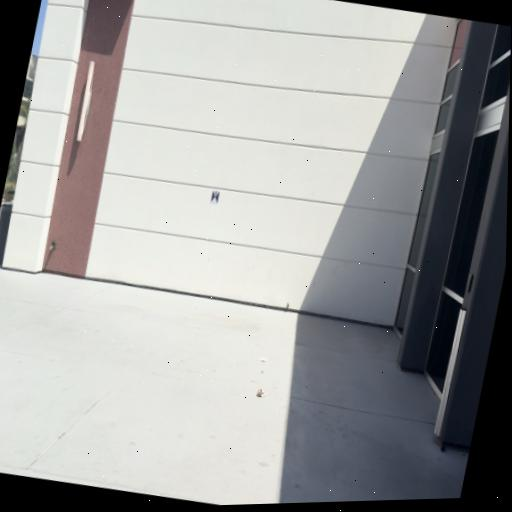target0: (210, 189, 219, 203)
